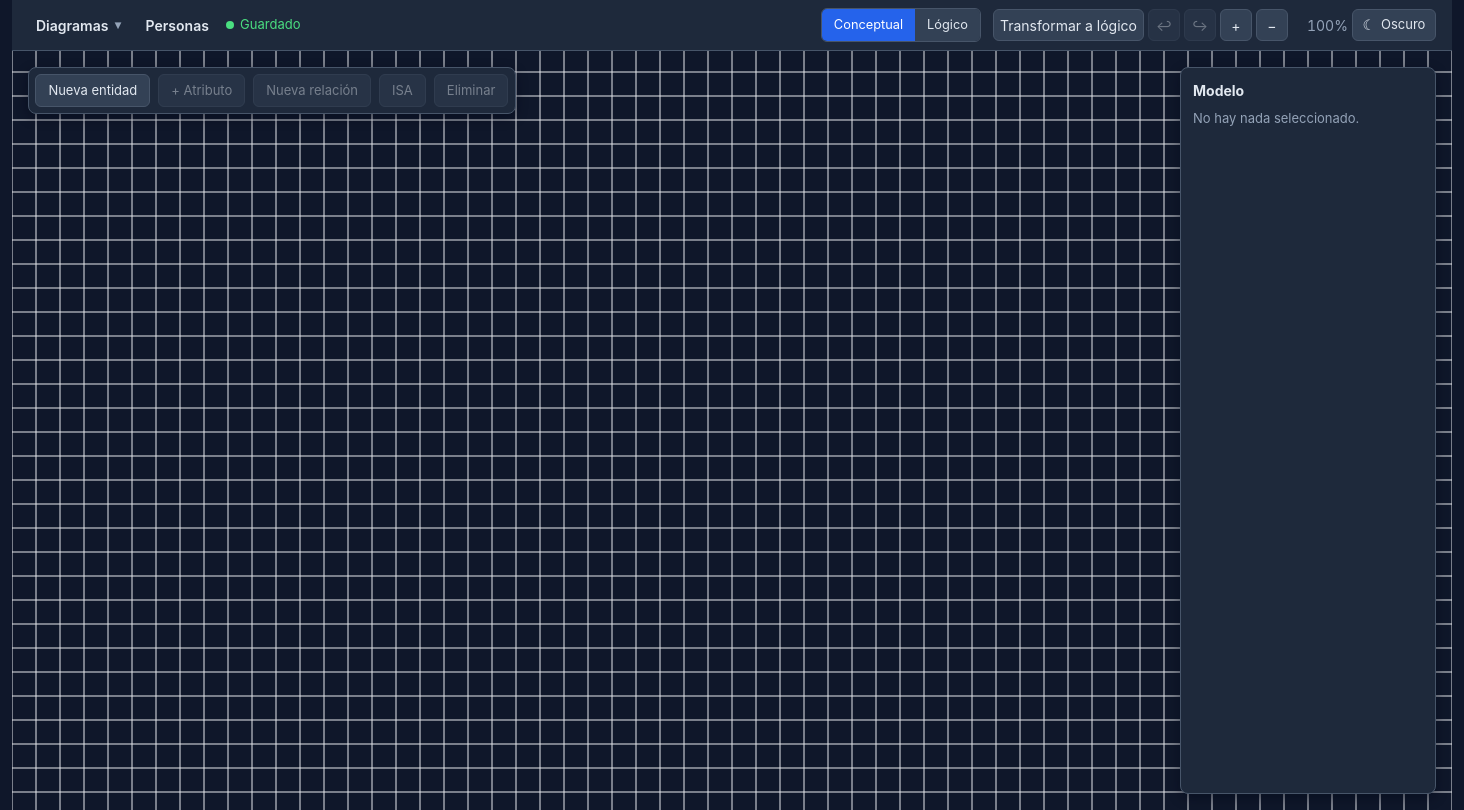
Scenario: EditorPage › crea un atributo simple para la entidad seleccionada y lo renombra
Click the button "Nueva entidad" at [93, 91], box x1=35 y1=74 x2=150 y2=107
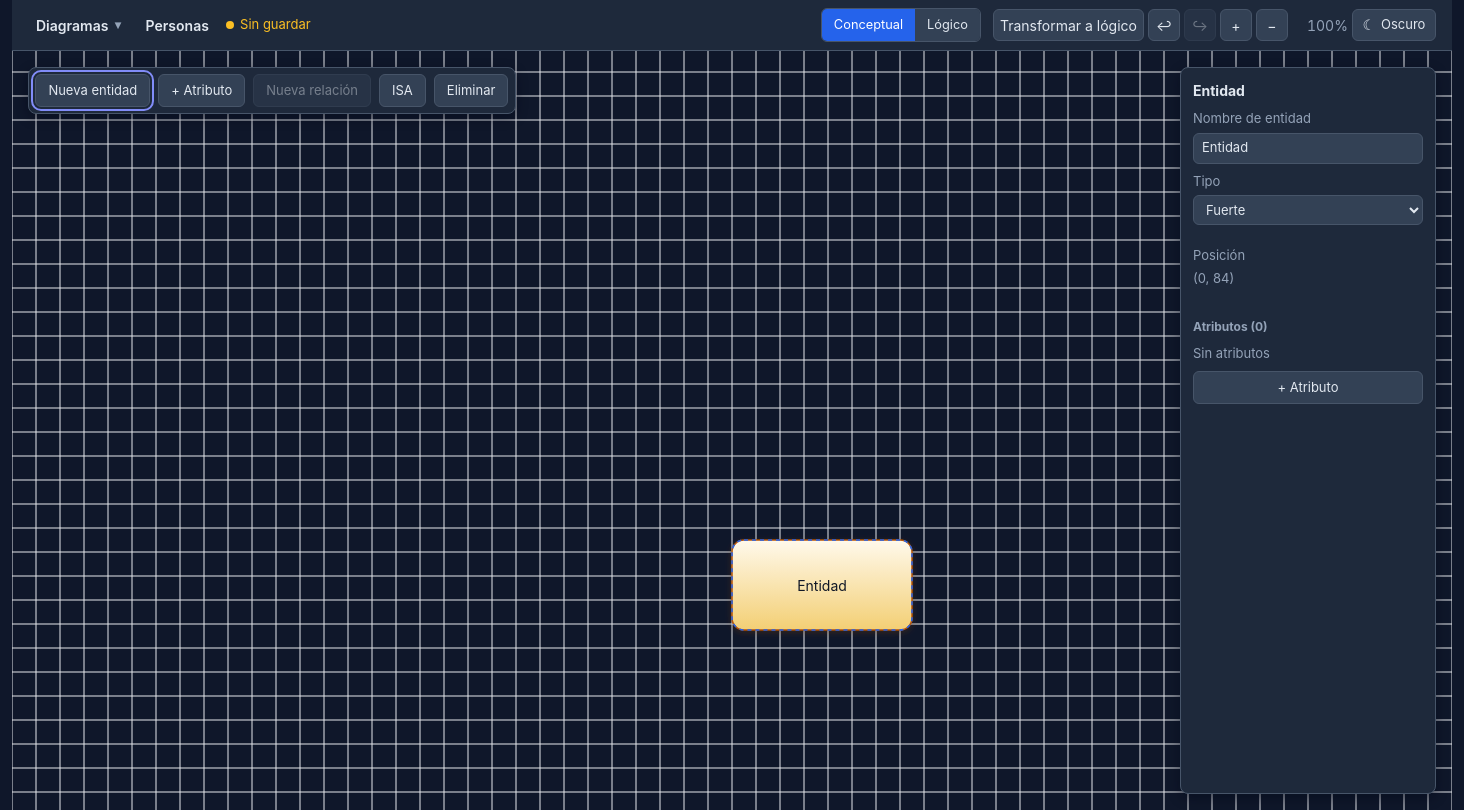
Expected: the button named "Nuevo atributo" is enabled
Click the button named "Nuevo atributo" at [202, 91], box x1=158 y1=74 x2=245 y2=107
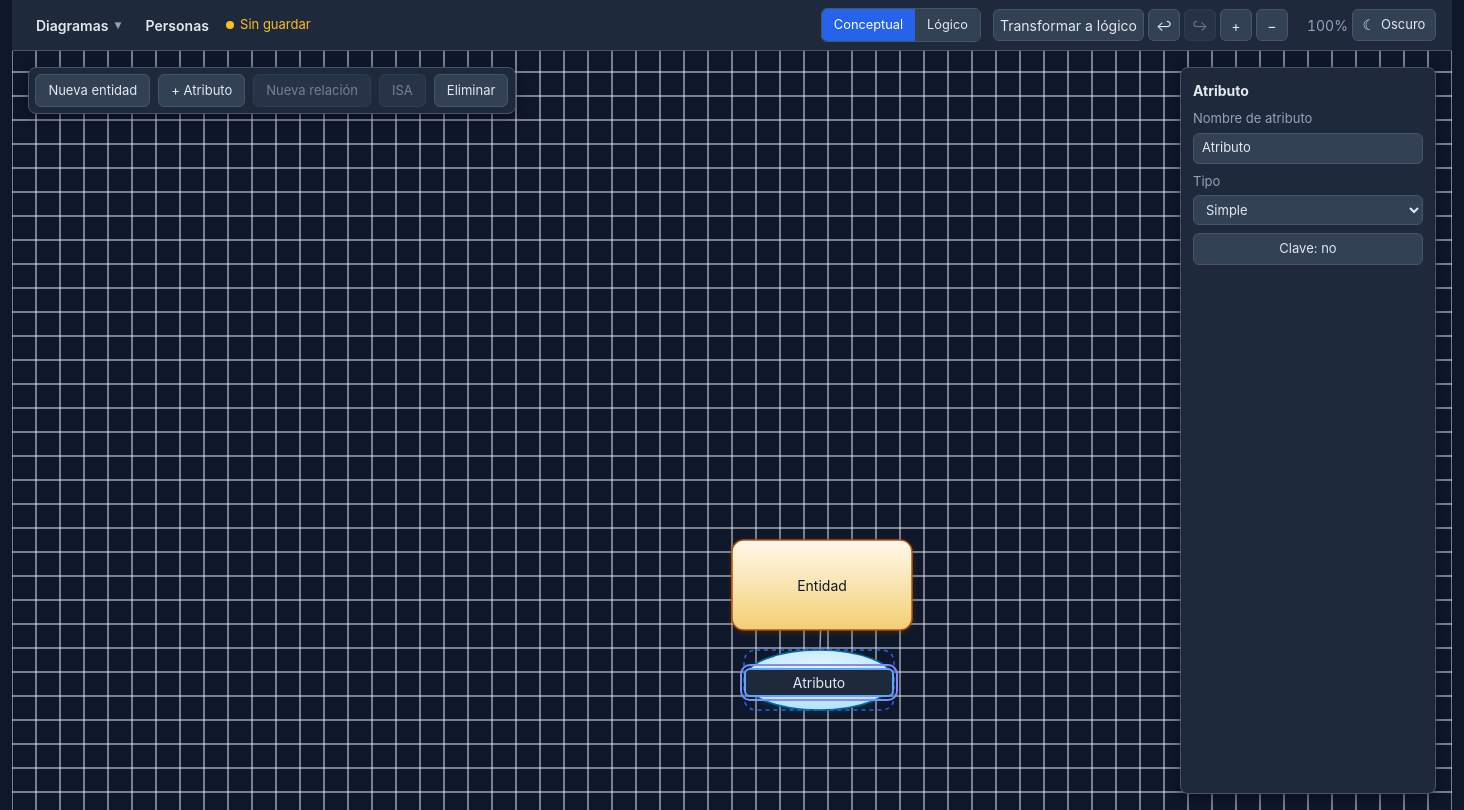
Replace the text in the field named "Nombre" with "cedula" at [819, 682], box x1=744 y1=668 x2=894 y2=697
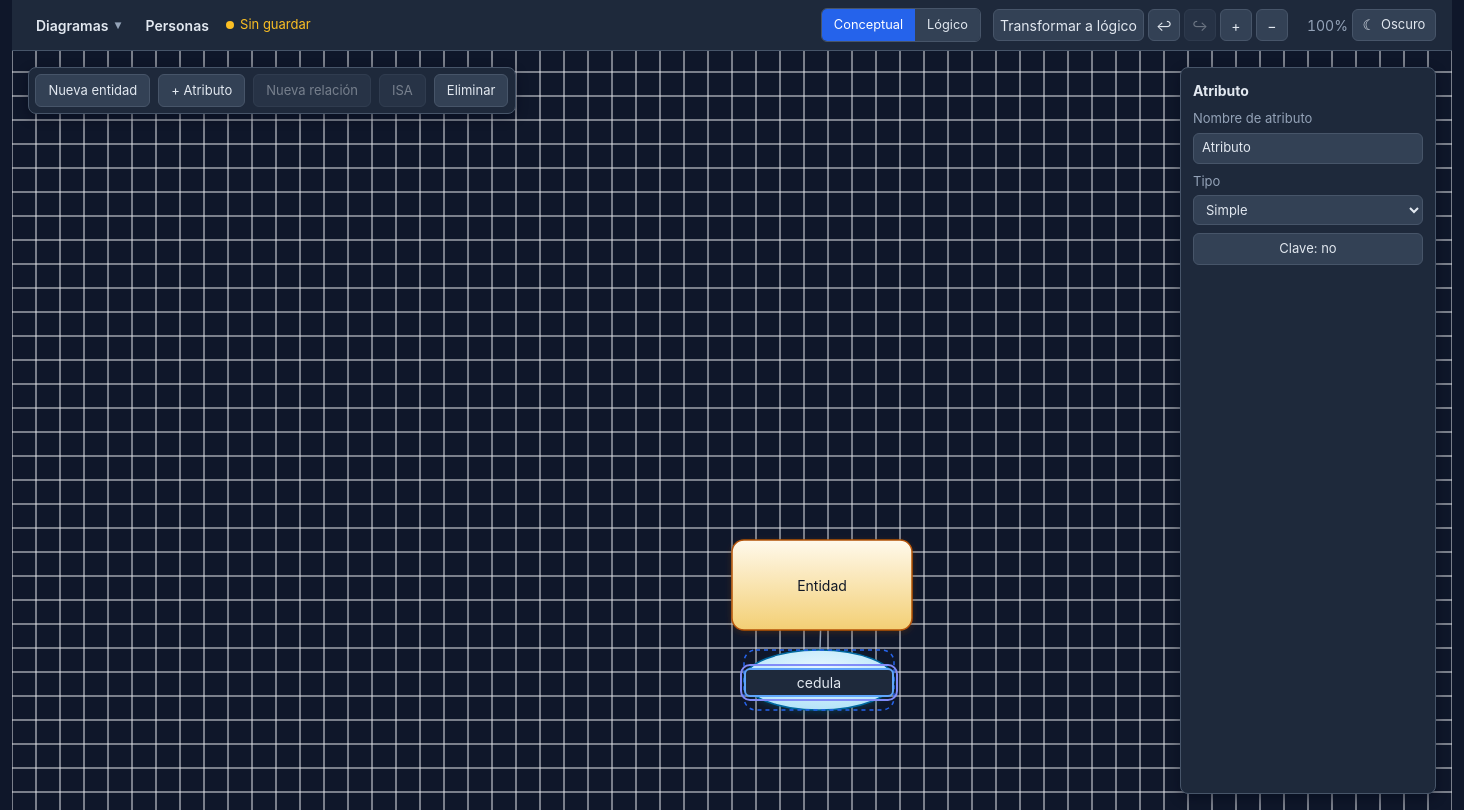
Press Enter
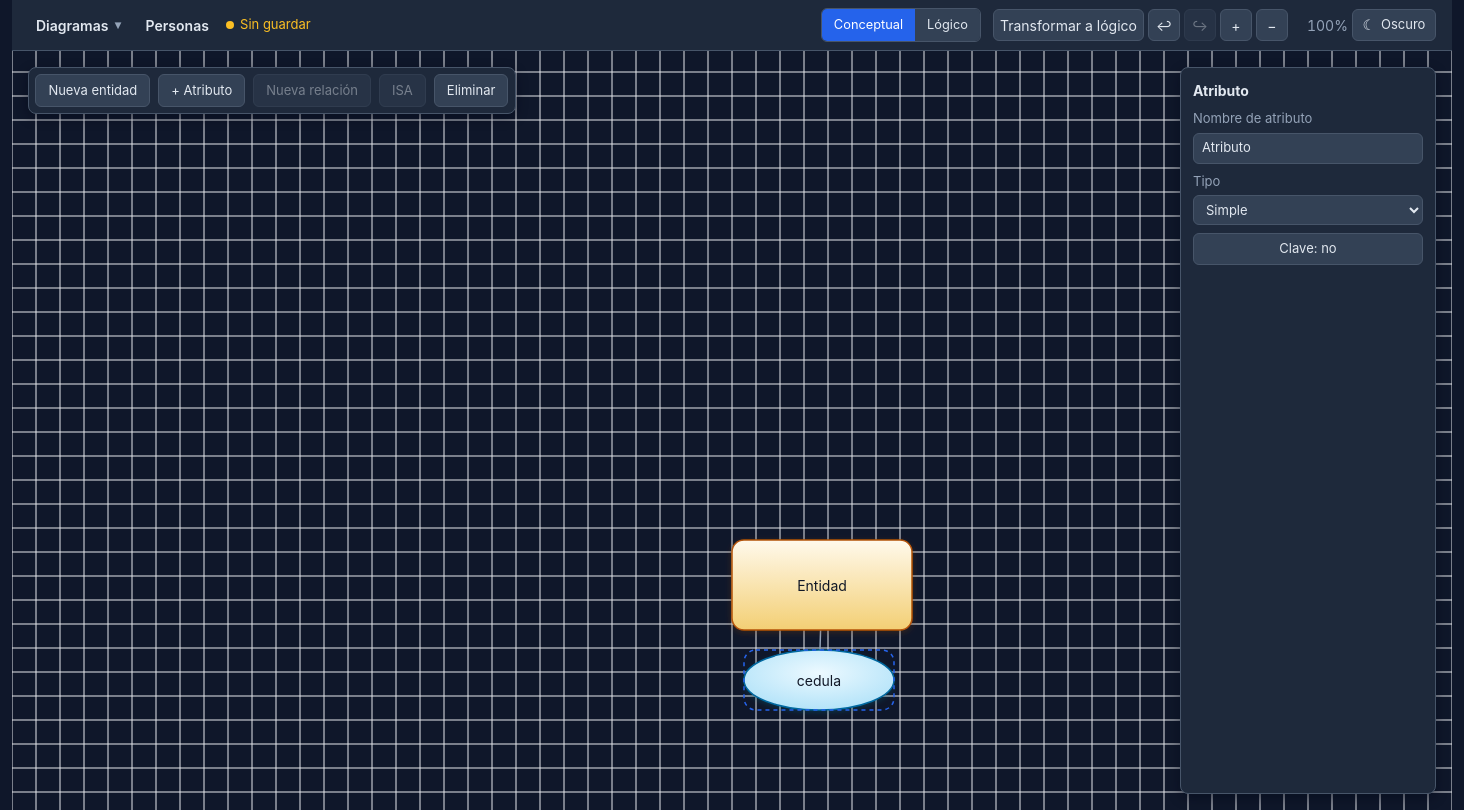
Expected: the field labelled "Nombre" is gone
